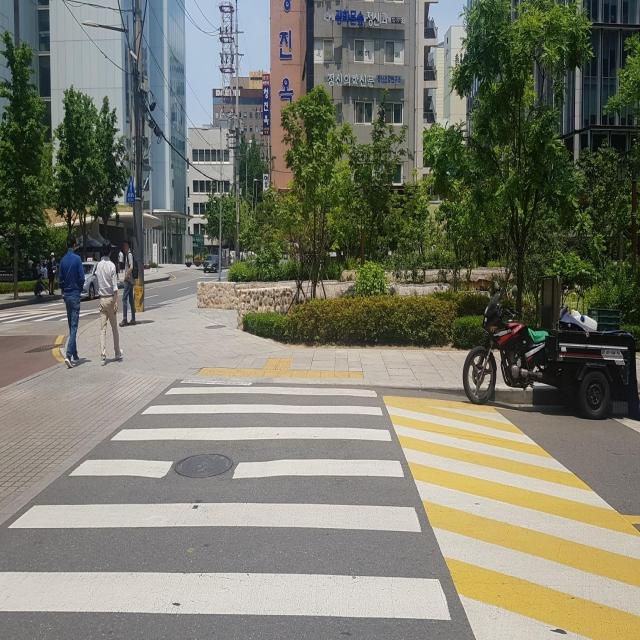횡단보도: (0, 378, 454, 627)
